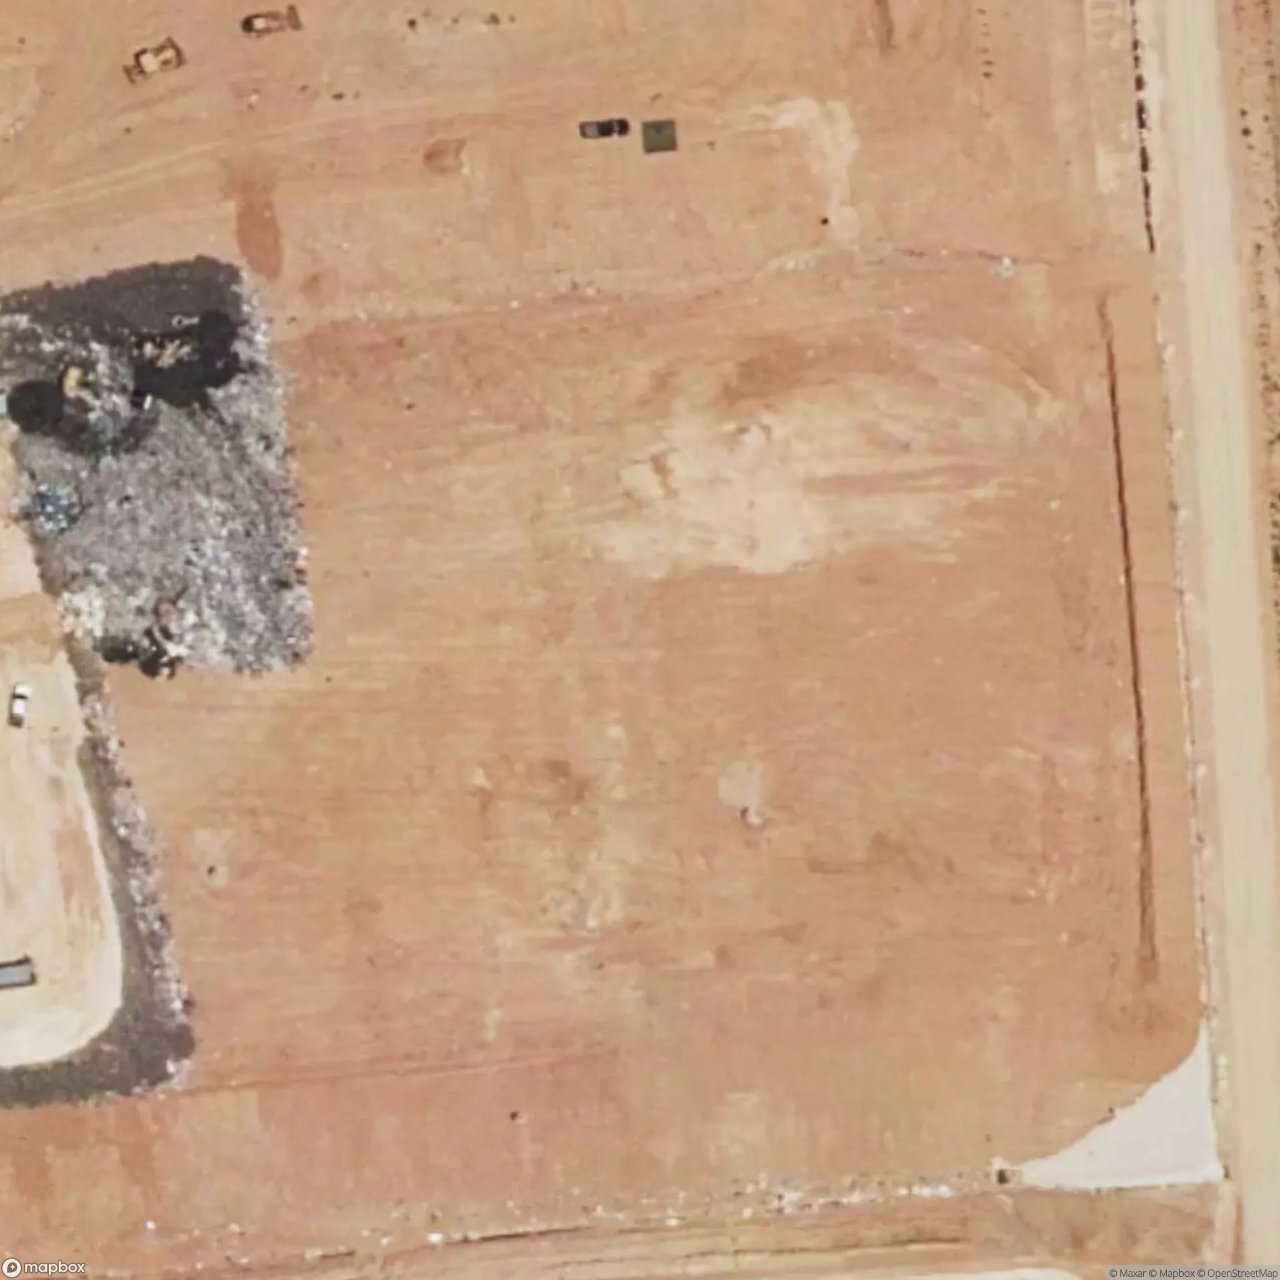dump_site: (12, 359, 315, 701)
